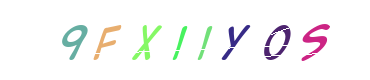9: (35, 0, 115, 80)
F: (66, 0, 146, 80)
I: (133, 0, 213, 80), (144, 0, 224, 80)
O: (237, 0, 317, 80)
S: (275, 0, 355, 80)
X: (128, 0, 208, 80)
Y: (219, 0, 299, 80)
